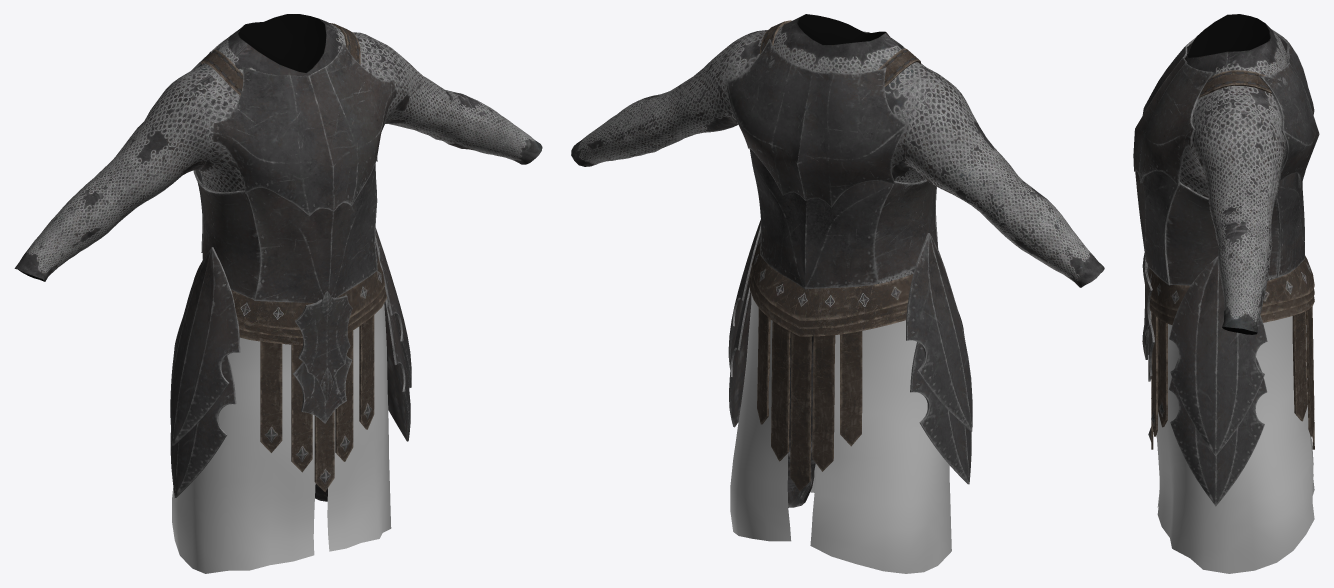
File: sk_uruk_mordor_chainmail_elite_d2.fbx
The picture shows the model from 3 angles, left to right: view 1: azimuth 30°, elevation 25°; view 2: azimuth 150°, elevation 25°; view 3: azimuth 270°, elevation 25°; orthographic projection. The views are drawn at different scales.
Parts seen in each view (by area): view 1: sk_uruk_mordor_chainmail_elite_d2.5, sk_uruk_mordor_chainmail_elite_d2.0, sk_uruk_mordor_chainmail_elite_d2.2, sk_uruk_mordor_chainmail_elite_d2.4, sk_uruk_mordor_chainmail_elite_d2.1, sk_uruk_mordor_chainmail_elite_d2.3; view 2: sk_uruk_mordor_chainmail_elite_d2.5, sk_uruk_mordor_chainmail_elite_d2.0, sk_uruk_mordor_chainmail_elite_d2.2, sk_uruk_mordor_chainmail_elite_d2.1, sk_uruk_mordor_chainmail_elite_d2.4; view 3: sk_uruk_mordor_chainmail_elite_d2.0, sk_uruk_mordor_chainmail_elite_d2.2, sk_uruk_mordor_chainmail_elite_d2.5, sk_uruk_mordor_chainmail_elite_d2.4, sk_uruk_mordor_chainmail_elite_d2.1, sk_uruk_mordor_chainmail_elite_d2.3.
Part boxes in pixels (<box>): sk_uruk_mordor_chainmail_elite_d2.5: <box>191,39,396,302</box>; sk_uruk_mordor_chainmail_elite_d2.0: <box>14,14,542,501</box>; sk_uruk_mordor_chainmail_elite_d2.2: <box>172,303,391,573</box>; sk_uruk_mordor_chainmail_elite_d2.4: <box>170,228,411,497</box>; sk_uruk_mordor_chainmail_elite_d2.1: <box>193,23,386,491</box>; sk_uruk_mordor_chainmail_elite_d2.3: <box>293,291,352,423</box>; sk_uruk_mordor_chainmail_elite_d2.5: <box>726,31,938,289</box>; sk_uruk_mordor_chainmail_elite_d2.0: <box>571,14,1104,507</box>; sk_uruk_mordor_chainmail_elite_d2.2: <box>730,293,951,573</box>; sk_uruk_mordor_chainmail_elite_d2.1: <box>749,20,920,491</box>; sk_uruk_mordor_chainmail_elite_d2.4: <box>728,219,972,484</box>; sk_uruk_mordor_chainmail_elite_d2.0: <box>1180,14,1287,334</box>; sk_uruk_mordor_chainmail_elite_d2.2: <box>1156,316,1314,573</box>; sk_uruk_mordor_chainmail_elite_d2.5: <box>1133,29,1319,285</box>; sk_uruk_mordor_chainmail_elite_d2.4: <box>1169,256,1267,506</box>; sk_uruk_mordor_chainmail_elite_d2.1: <box>1148,70,1314,449</box>; sk_uruk_mordor_chainmail_elite_d2.3: <box>1142,253,1154,381</box>.
Size of the model in its own units: 1.37 by 0.4386 by 1.29.
